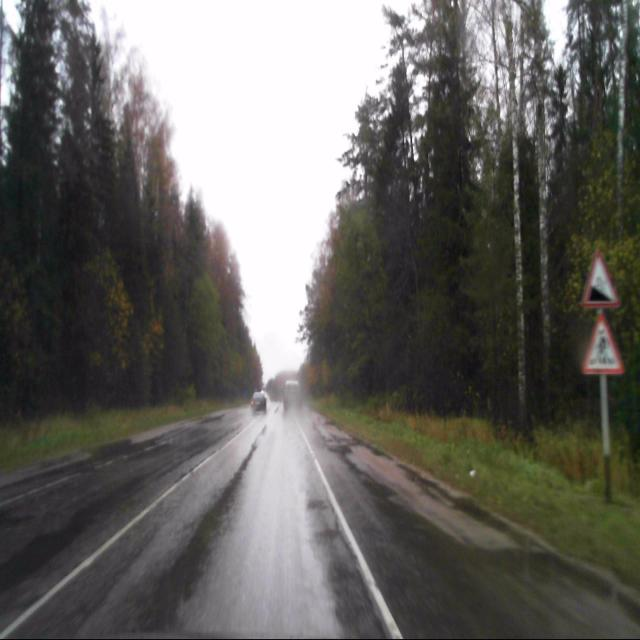road sign: (582, 313, 626, 376), (582, 248, 620, 308)
